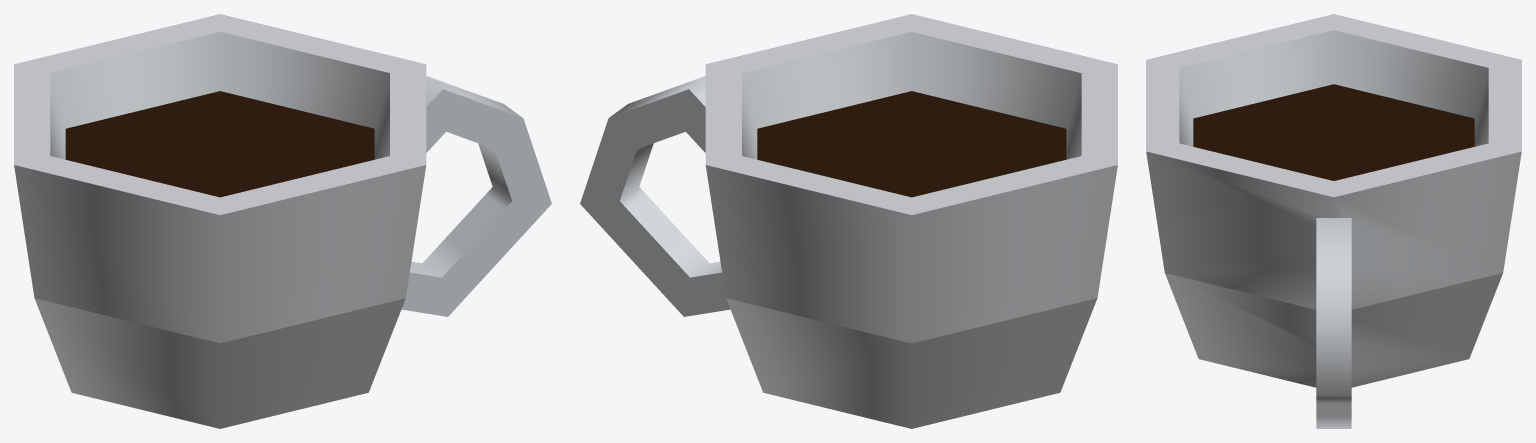
Rendered from coffee_mug.glb.
3 views of the same model, side by side, from view 1: azimuth 30°, elevation 25°; view 2: azimuth 150°, elevation 25°; view 3: azimuth 270°, elevation 25° (orthographic). The views are drawn at different scales.
Parts seen in each view (by area): view 1: cupTea; view 2: cupTea; view 3: cupTea.
Boxes of the visible parts, box(x1,y1,x2,y2) form: cupTea: box(14, 14, 551, 428); cupTea: box(580, 14, 1117, 428); cupTea: box(1146, 14, 1521, 428).
Size of the model in its own units: 0.2336 by 0.105 by 0.1579.
